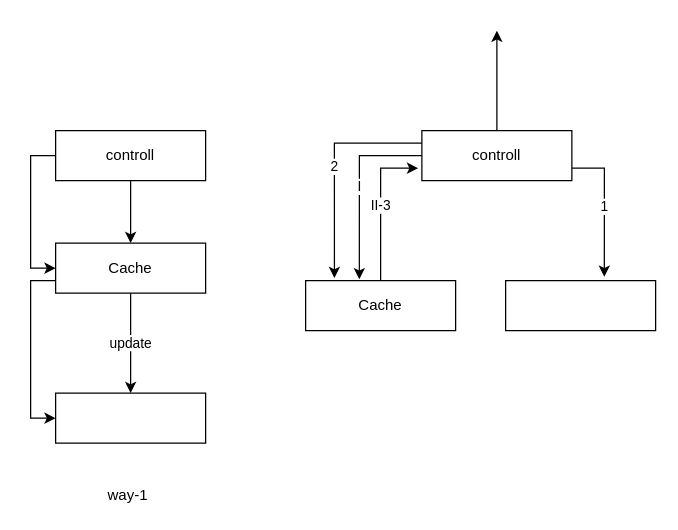
Image size: 678x530. Some labels were removed from this diagram. Each missing label, with the centre of its shape:
"API" goes at point (580, 305).
"API(yuque/github)" goes at point (130, 417).
